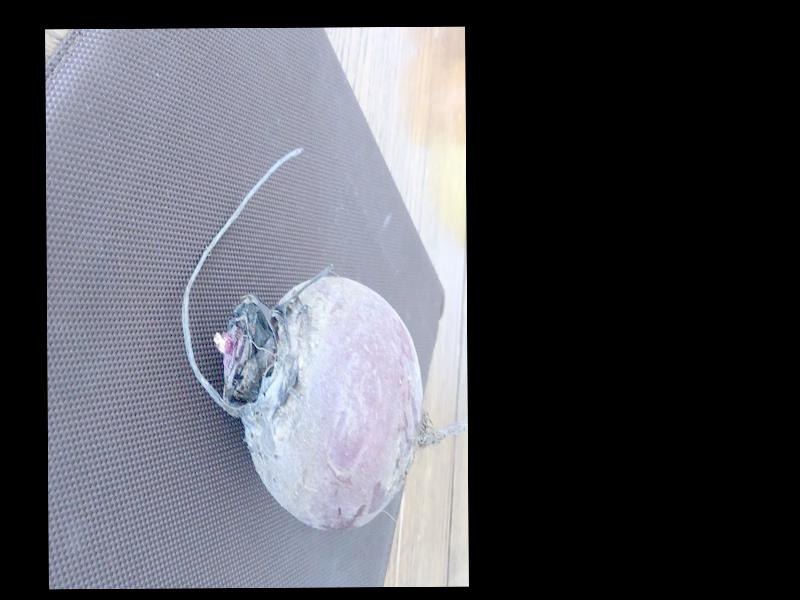Beet: (180, 145, 467, 532)
